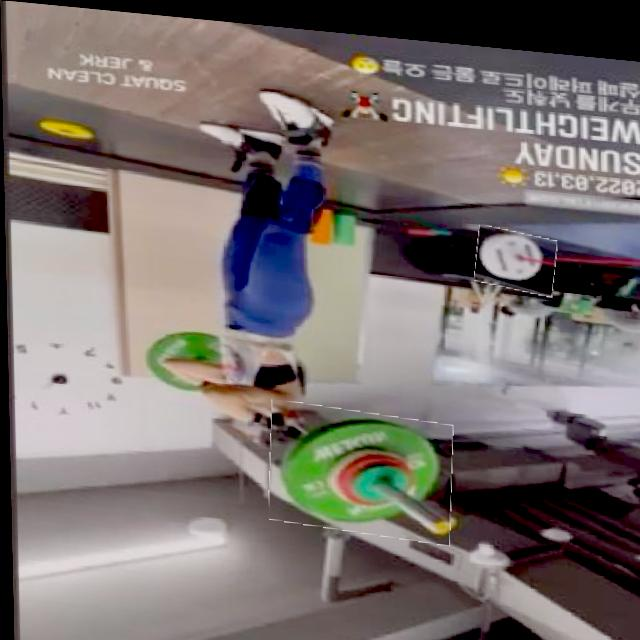barbell: (267, 396, 453, 536), (475, 217, 557, 285)
